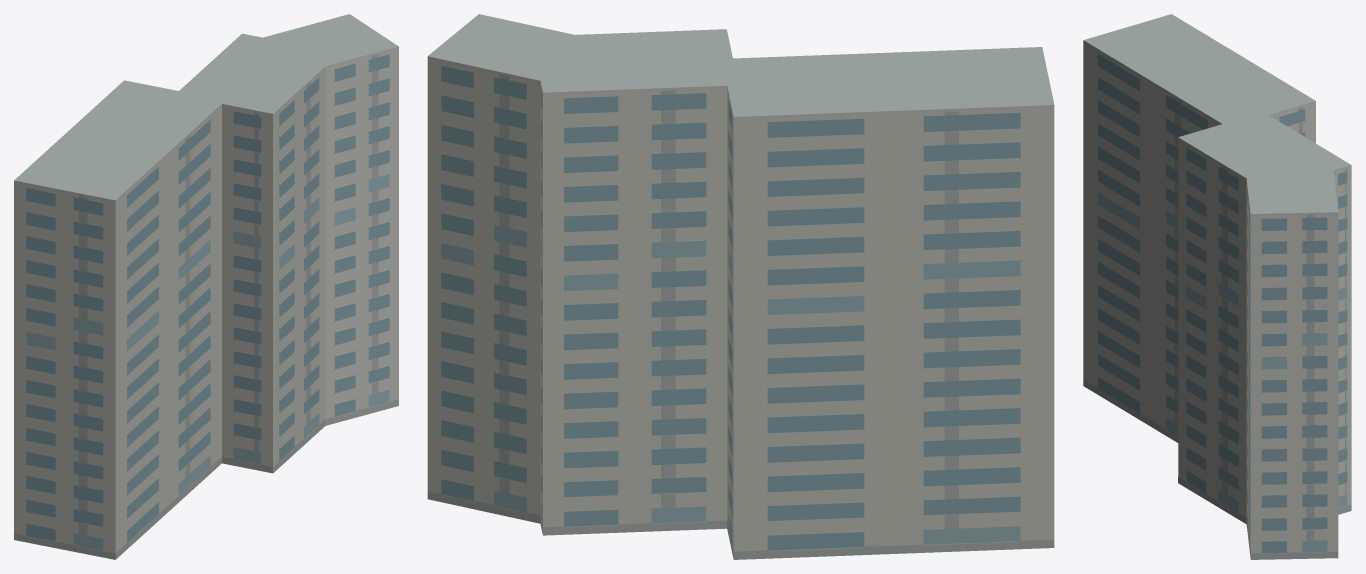
File: residential-bee2b1c9-1c39-478b-aa11-f5a3b9c17952.glb
3 renders of one model, left to right at view 1: azimuth 30°, elevation 25°; view 2: azimuth 150°, elevation 25°; view 3: azimuth 270°, elevation 25°, orthographic. The views are drawn at different scales.
Visible parts, largest first — view 1: residential-bee2b1c9-1c39-478b-aa11-f5a3b9c17952.tmp; view 2: residential-bee2b1c9-1c39-478b-aa11-f5a3b9c17952.tmp; view 3: residential-bee2b1c9-1c39-478b-aa11-f5a3b9c17952.tmp.
Part boxes in pixels (box(x1,y1,x2,y2)): residential-bee2b1c9-1c39-478b-aa11-f5a3b9c17952.tmp: box(14, 14, 398, 559); residential-bee2b1c9-1c39-478b-aa11-f5a3b9c17952.tmp: box(427, 14, 1054, 559); residential-bee2b1c9-1c39-478b-aa11-f5a3b9c17952.tmp: box(1083, 14, 1351, 559).
Bounding box in the file's own units: 49.61 × 40 × 28.11.
